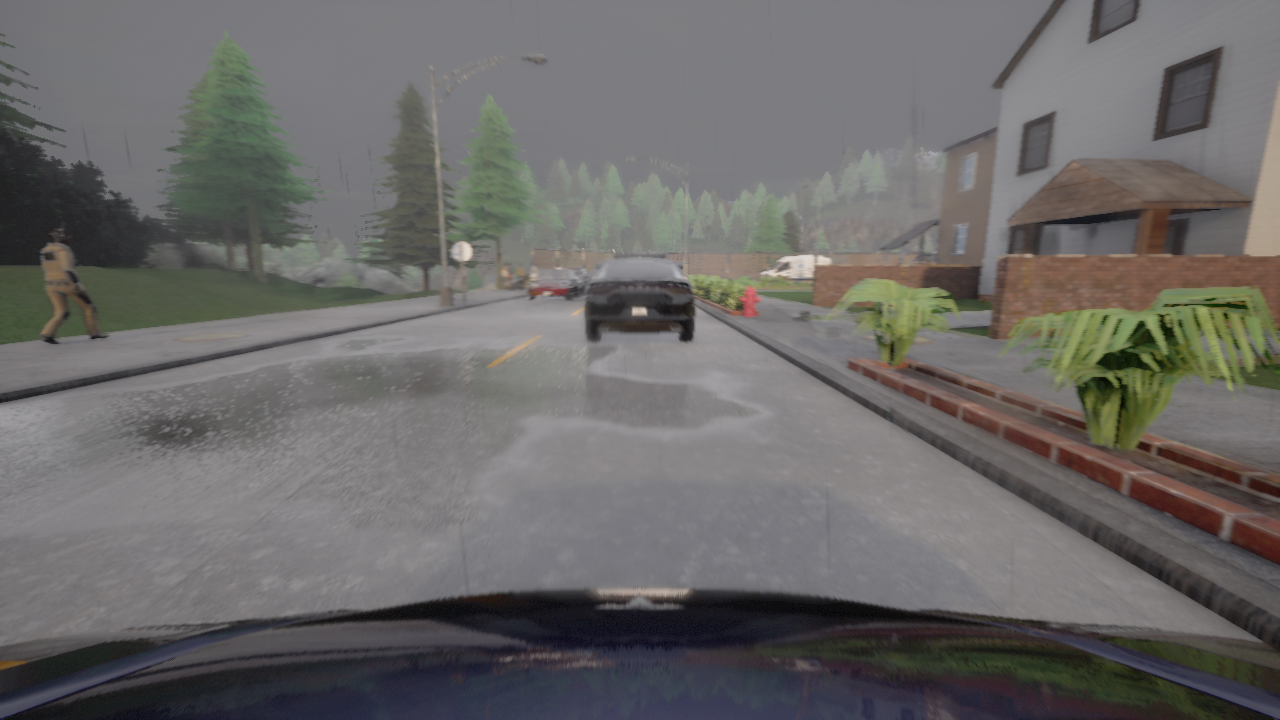cyclist: (0, 588, 1279, 719), (585, 252, 694, 340), (759, 256, 830, 285), (528, 268, 580, 299), (571, 268, 590, 294), (589, 270, 598, 281), (683, 274, 684, 275)
pedestrian: (40, 229, 108, 343), (507, 263, 514, 289), (517, 263, 524, 289), (503, 262, 509, 289), (532, 263, 539, 279), (530, 264, 534, 280)
